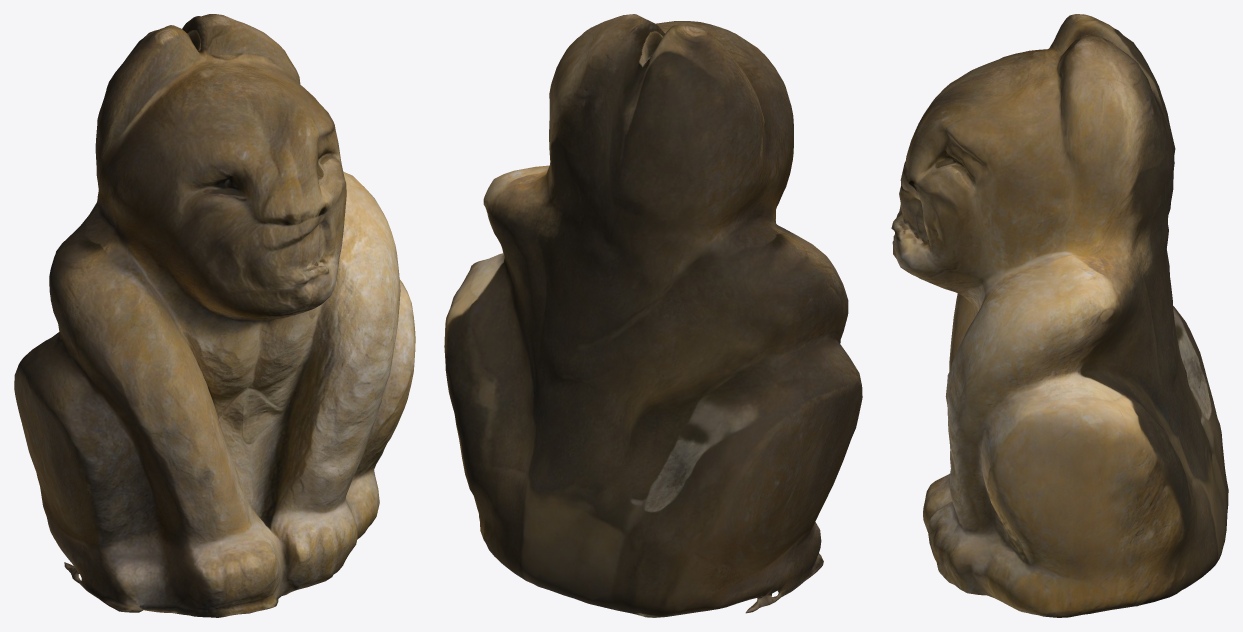
File: gemelos_animal.glb
3 views of the same model, side by side, from view 1: azimuth 30°, elevation 25°; view 2: azimuth 150°, elevation 25°; view 3: azimuth 270°, elevation 25° (orthographic). The views are drawn at different scales.
Parts seen in each view (by area): view 1: Mesh1.0; view 2: Mesh1.0; view 3: Mesh1.0.
Boxes of the visible parts, x1,y1,x2,y2 form: Mesh1.0: (14, 14, 415, 617); Mesh1.0: (444, 14, 862, 617); Mesh1.0: (891, 14, 1228, 617).
Size of the model in its own units: 0.3524 by 0.5 by 0.2878.
Materials: 1 (1 with a texture image).
